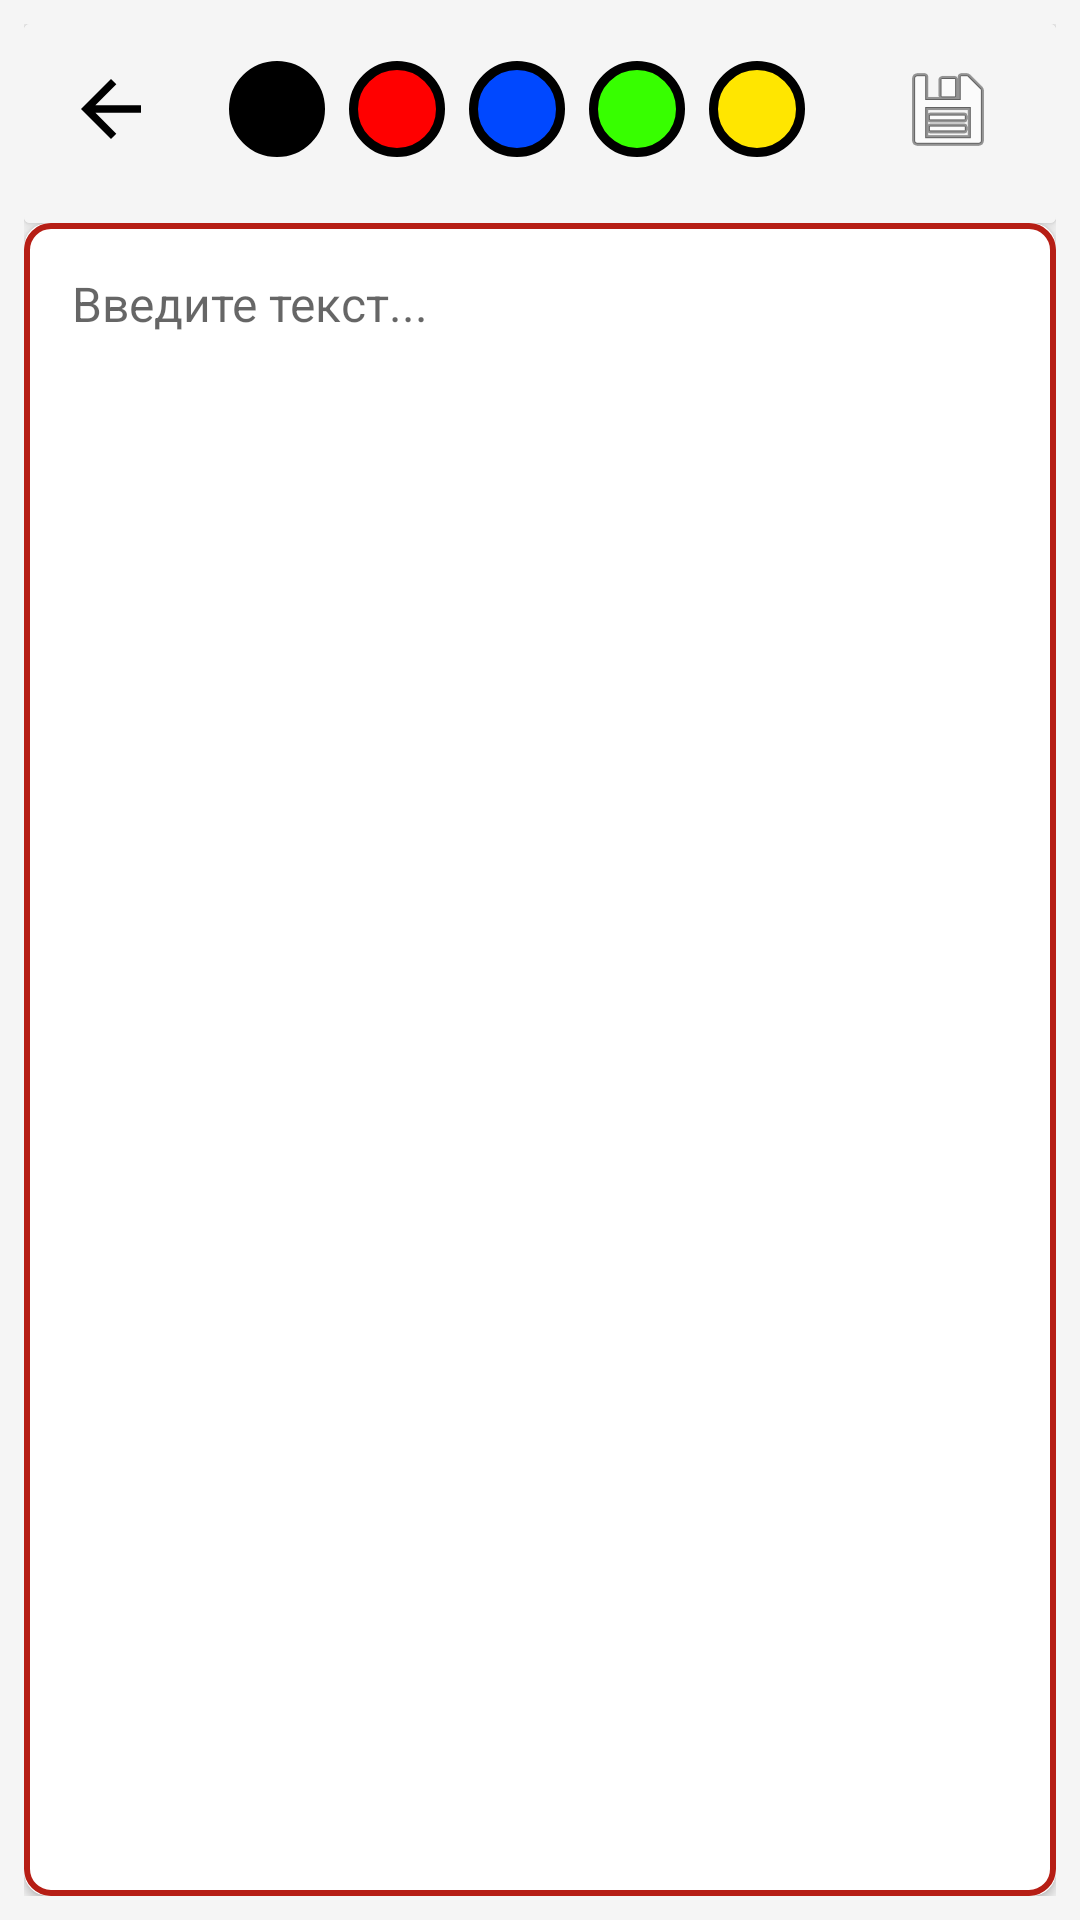

Icons on this 1080x1920 Android screen, each with its box as (x1, y1, x2, y2):
exit arrow: (81, 79, 141, 139)
save: (912, 73, 984, 146)
